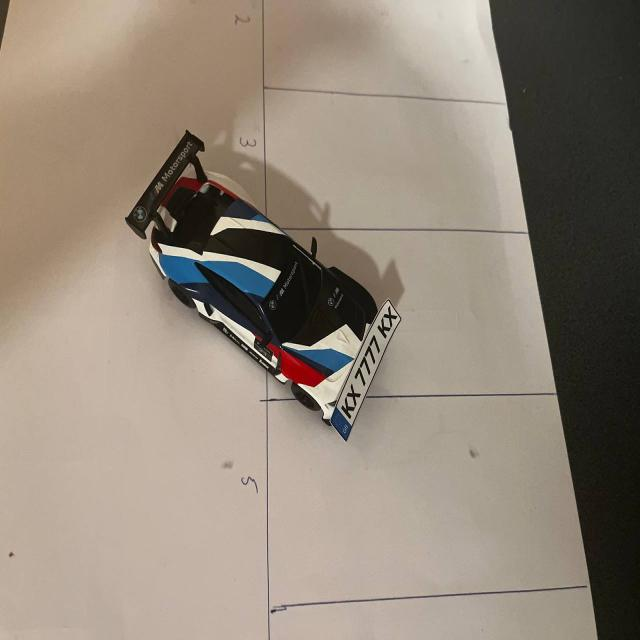KX 7777 KX: (327, 301, 404, 446)
